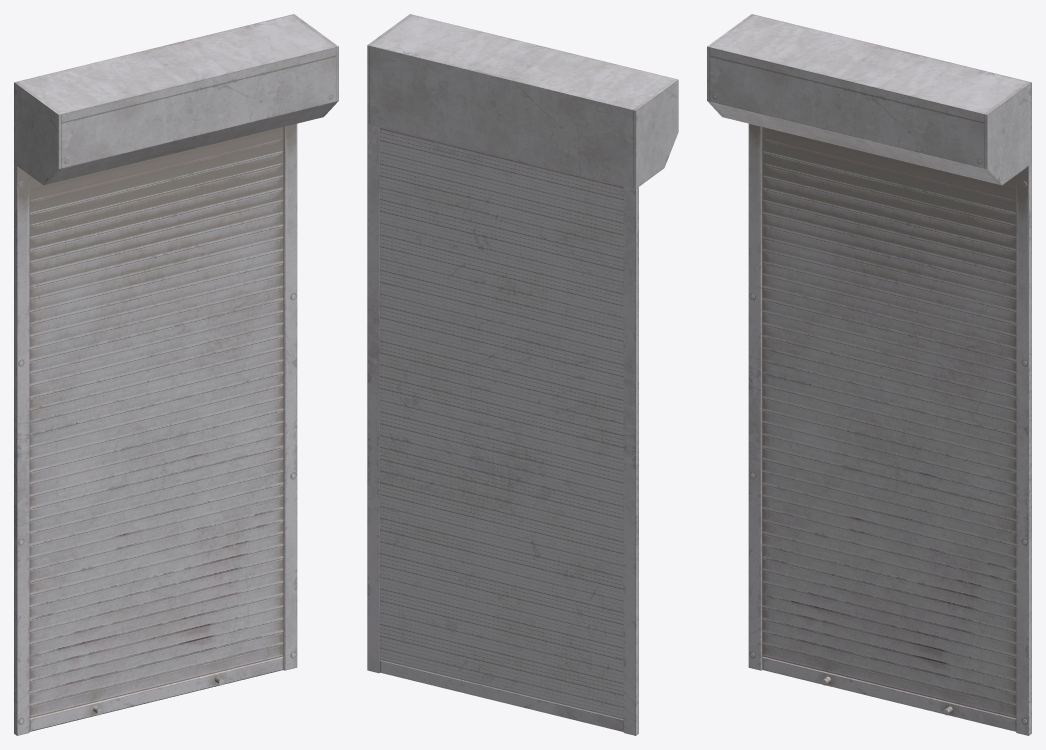
Rendered from shutter_door.glb.
3 views of the same model, side by side, from view 1: azimuth 30°, elevation 25°; view 2: azimuth 150°, elevation 25°; view 3: azimuth 330°, elevation 25° (orthographic). The views are drawn at different scales.
Parts seen in each view (by area): view 1: shutter_door; view 2: shutter_door; view 3: shutter_door.
Boxes of the visible parts, x1,y1,x2,y2 form: shutter_door: (14,14,338,735); shutter_door: (367,14,678,735); shutter_door: (707,14,1031,735).
Bounding box in the file's own units: 1.08 × 2.4 × 0.3001.
1 material, 1 textured.
